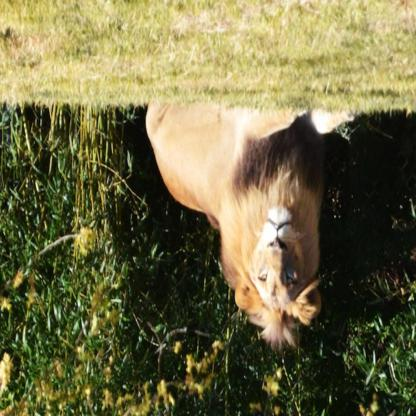lion: (230, 188, 326, 353)
